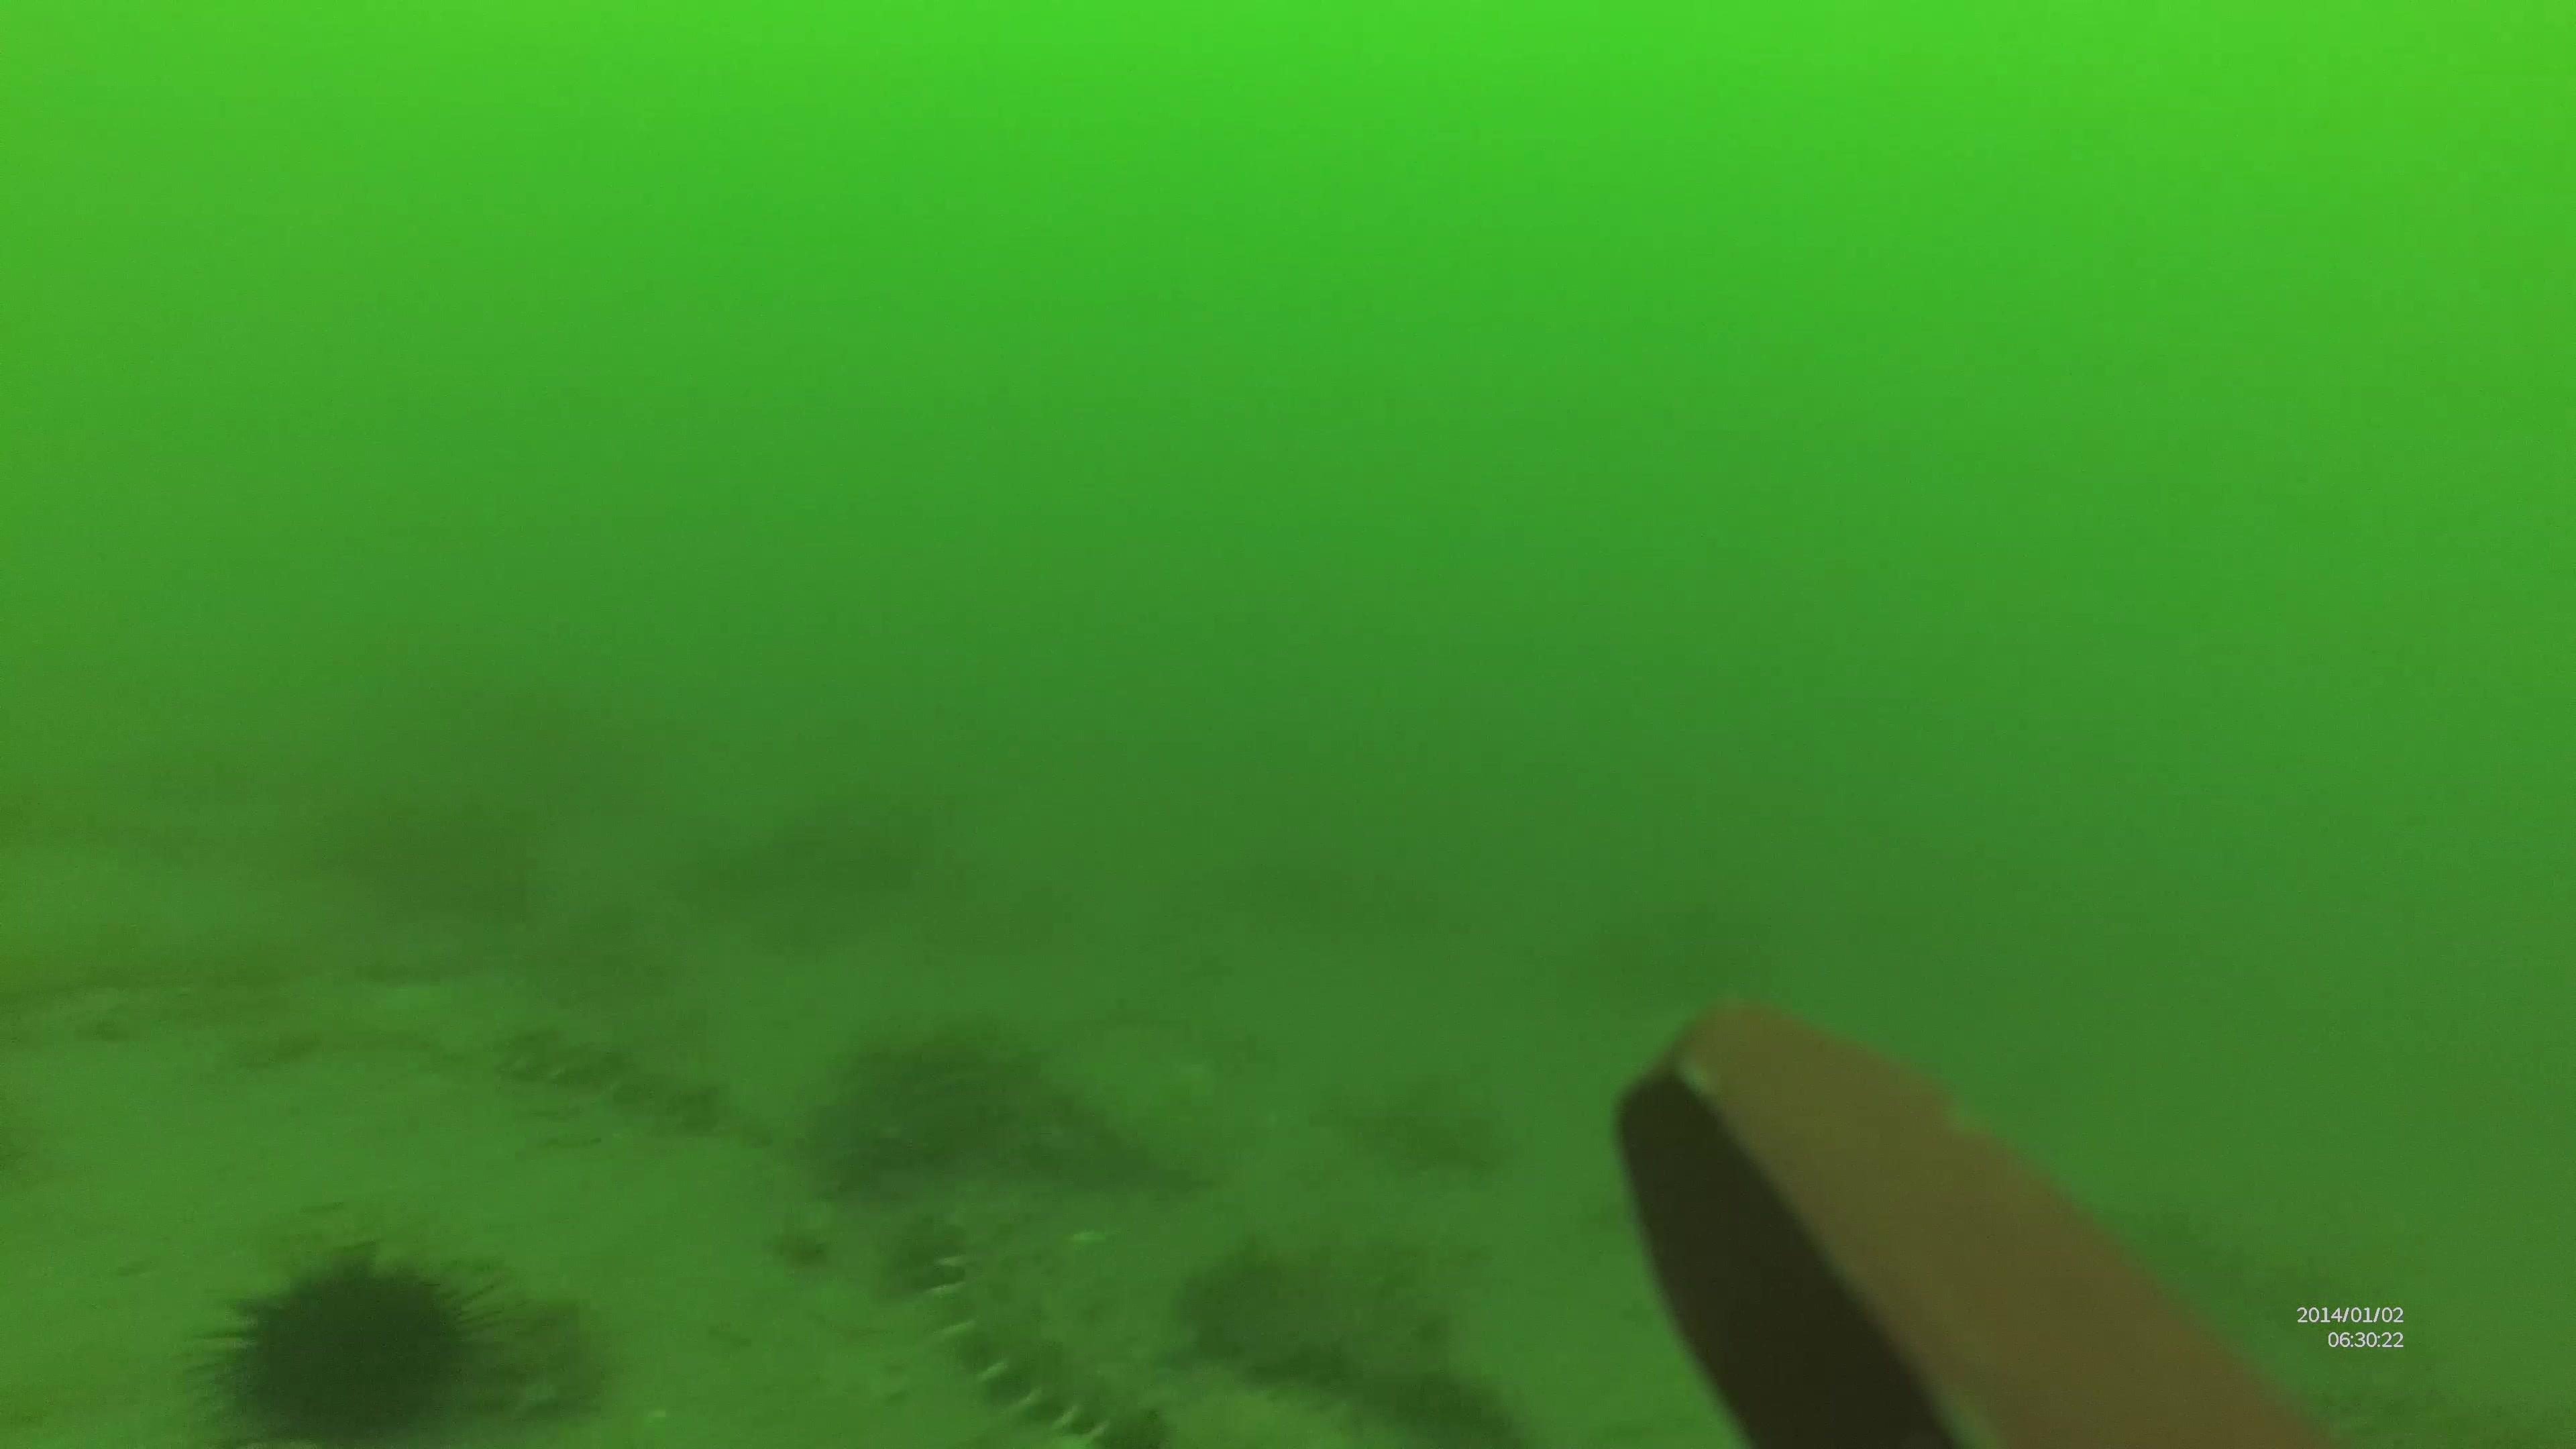echinus: (182, 1242, 538, 1444)
holothurian: (922, 1228, 1157, 1445), (508, 1012, 731, 1145)
